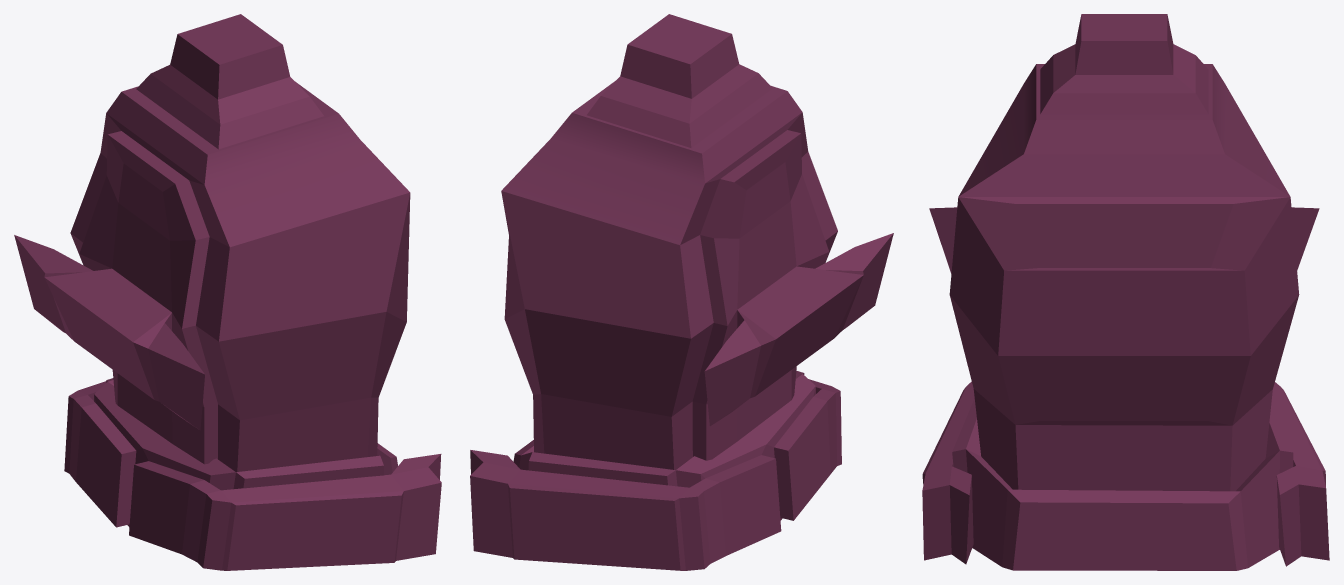
The model's file is mune.obj.
3 renders of one model, left to right at view 1: azimuth 30°, elevation 25°; view 2: azimuth 150°, elevation 25°; view 3: azimuth 270°, elevation 25°, orthographic. The views are drawn at different scales.
Parts seen in each view (by area): view 1: pCube1; view 2: pCube1; view 3: pCube1.
Part boxes in pixels (x1,y1,x2,y2): pCube1: (14,14,441,570); pCube1: (470,14,893,570); pCube1: (922,14,1329,570).
Bounding box in the file's own units: 1.05 × 1.74 × 1.31.
1 material, 1 textured.
